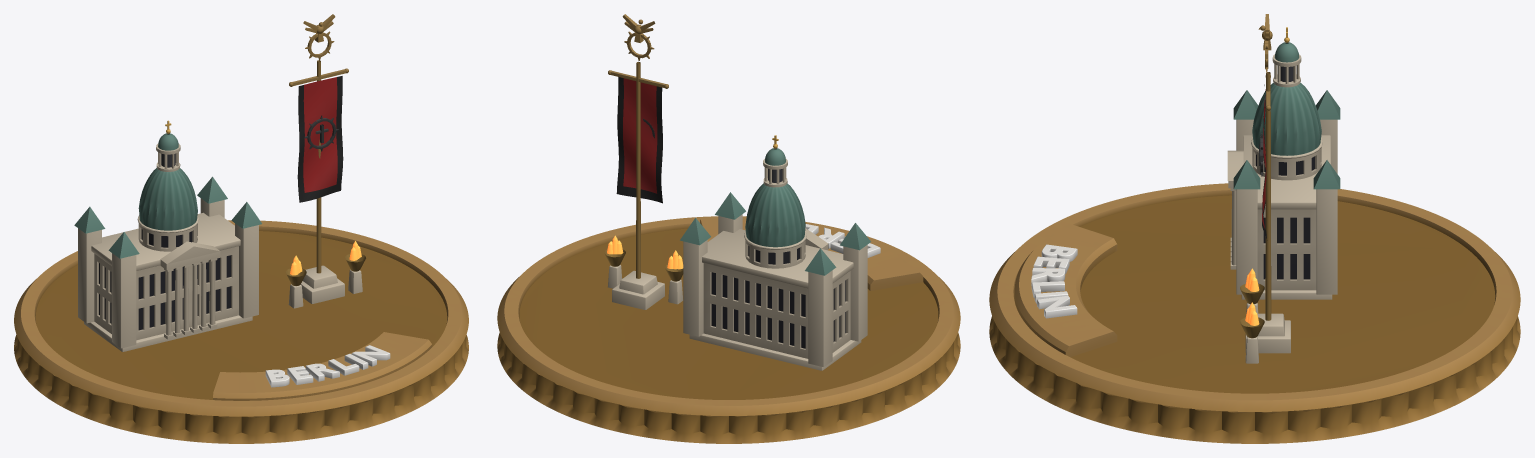
The model's file is city_bundle_berlin.glb.
3 views of the same model, side by side, from view 1: azimuth 30°, elevation 25°; view 2: azimuth 150°, elevation 25°; view 3: azimuth 270°, elevation 25° (orthographic). The views are drawn at different scales.
Visible parts, largest first — view 1: Plinth_Body, Reichstag_Stone, Plinth_Nameplate, Banner_Cloth, Reichstag_Portico, Reichstag_Dome, Banner_Base, Plinth_Text_BERLIN, Reichstag_Roofs, Banner_Pole, Reichstag_Lantern, Banner_Emblem; view 2: Plinth_Body, Reichstag_Stone, Banner_Cloth, Reichstag_Dome, Banner_Base, Plinth_Nameplate, Banner_Pole, Reichstag_Roofs, Reichstag_Lantern, Plinth_Text_BERLIN; view 3: Plinth_Body, Reichstag_Stone, Plinth_Nameplate, Reichstag_Dome, Banner_Base, Plinth_Text_BERLIN, Reichstag_Roofs, Banner_Pole, Reichstag_Lantern, Reichstag_Portico.
Boxes of the visible parts, <box> form: Plinth_Body: <box>14,220,468,443</box>; Reichstag_Stone: <box>78,198,258,351</box>; Plinth_Nameplate: <box>213,332,432,400</box>; Banner_Cloth: <box>297,76,343,202</box>; Reichstag_Portico: <box>160,241,220,339</box>; Reichstag_Dome: <box>138,168,197,230</box>; Banner_Base: <box>285,241,365,308</box>; Plinth_Text_BERLIN: <box>265,345,390,387</box>; Reichstag_Roofs: <box>74,176,261,258</box>; Banner_Pole: <box>289,14,348,273</box>; Reichstag_Lantern: <box>156,120,180,171</box>; Banner_Emblem: <box>304,115,338,151</box>; Plinth_Body: <box>497,216,960,443</box>; Reichstag_Stone: <box>683,214,867,370</box>; Banner_Cloth: <box>616,77,662,203</box>; Reichstag_Dome: <box>745,183,805,247</box>; Banner_Base: <box>604,235,683,309</box>; Plinth_Nameplate: <box>700,218,923,290</box>; Banner_Pole: <box>608,14,668,278</box>; Reichstag_Roofs: <box>680,192,870,275</box>; Reichstag_Lantern: <box>763,135,787,187</box>; Plinth_Text_BERLIN: <box>805,224,880,257</box>; Plinth_Body: <box>989,183,1520,443</box>; Reichstag_Stone: <box>1236,119,1337,299</box>; Plinth_Nameplate: <box>1014,223,1117,357</box>; Reichstag_Dome: <box>1252,83,1321,155</box>; Banner_Base: <box>1240,268,1290,363</box>; Plinth_Text_BERLIN: <box>1031,244,1077,318</box>; Reichstag_Roofs: <box>1233,90,1340,189</box>; Banner_Pole: <box>1258,14,1272,320</box>; Reichstag_Lantern: <box>1272,27,1301,87</box>; Reichstag_Portico: <box>1227,150,1243,269</box>.
Size of the model in its own units: 1.99 by 1.49 by 1.99.
